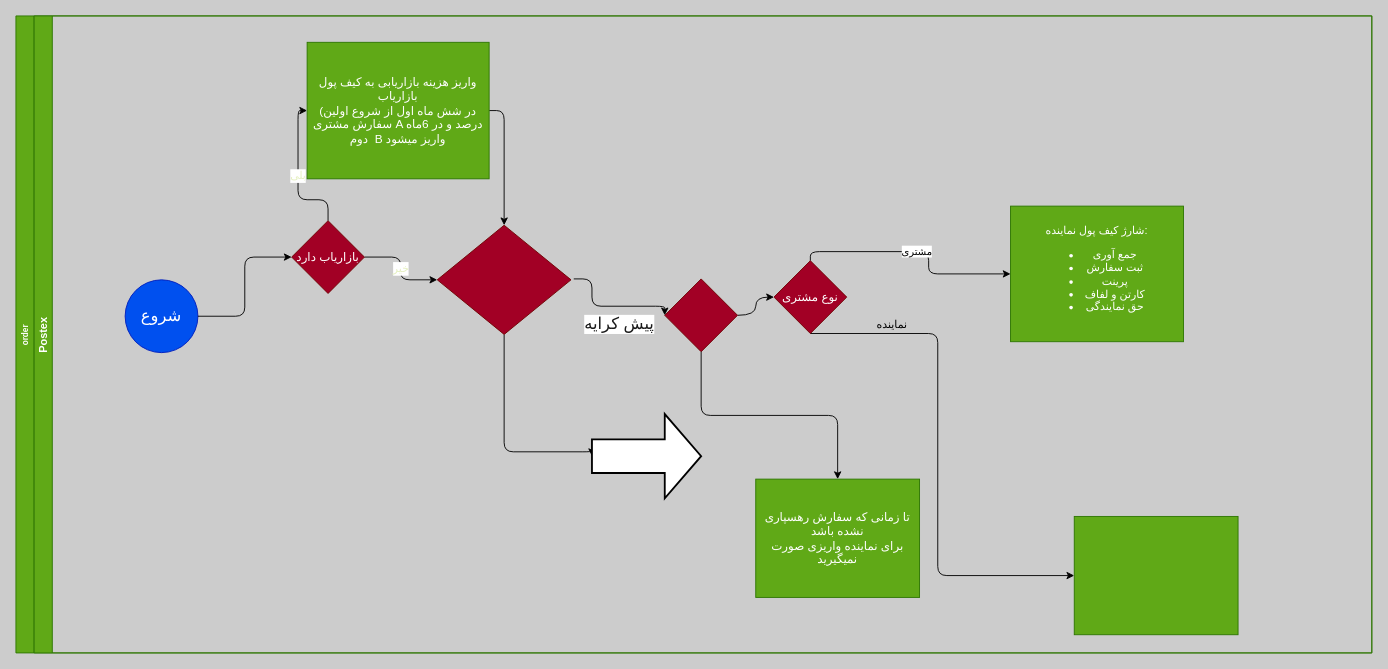
Some shapes in this 1388 by 669 pixel diagram are drawn without their labels. The centre of each missing label's shape, as x and y in pixels:
رهسپاری شده: pixel 701 315
شارژ کیف پول نماینده: خدمات نمایندگی حق نمایندگی: pixel 1155 575
فرآیند مالی پس کرایه: pixel 646 456
نوع سفارش: pixel 503 279
